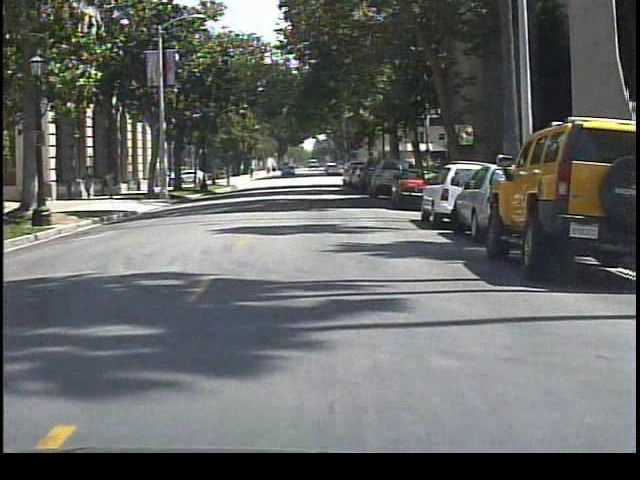person: (101, 163, 125, 200), (78, 162, 99, 204)
